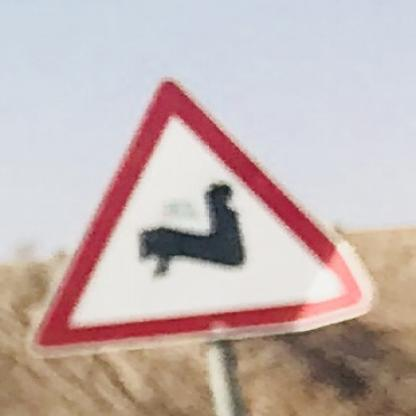Zigzag Road Ahead: (25, 74, 376, 359)
